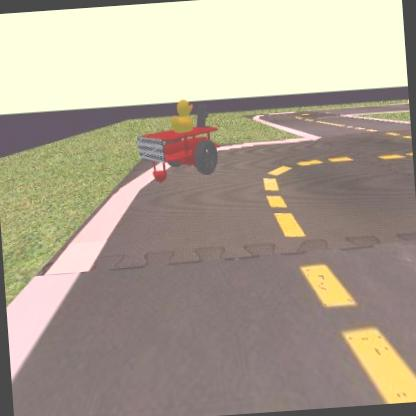Cone: (405, 86, 409, 106)
Duckie: (169, 93, 196, 134)
DuckieBot: (135, 104, 221, 184)
